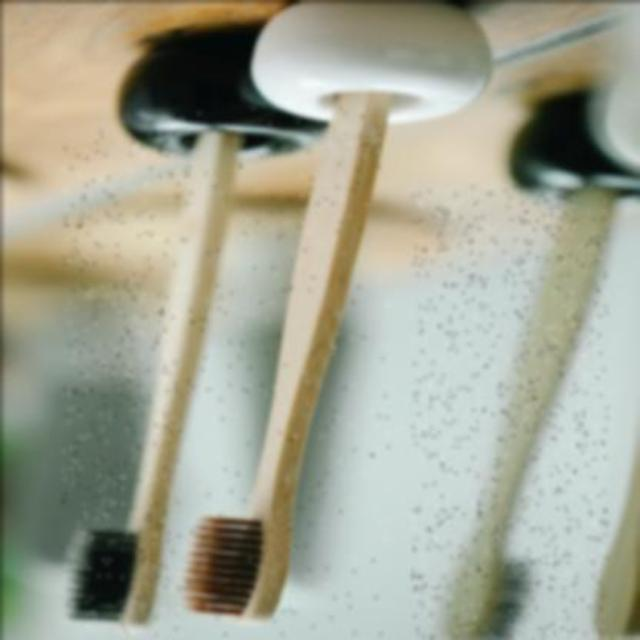toothbrush: (177, 105, 387, 637), (61, 128, 250, 636), (410, 184, 606, 640)
